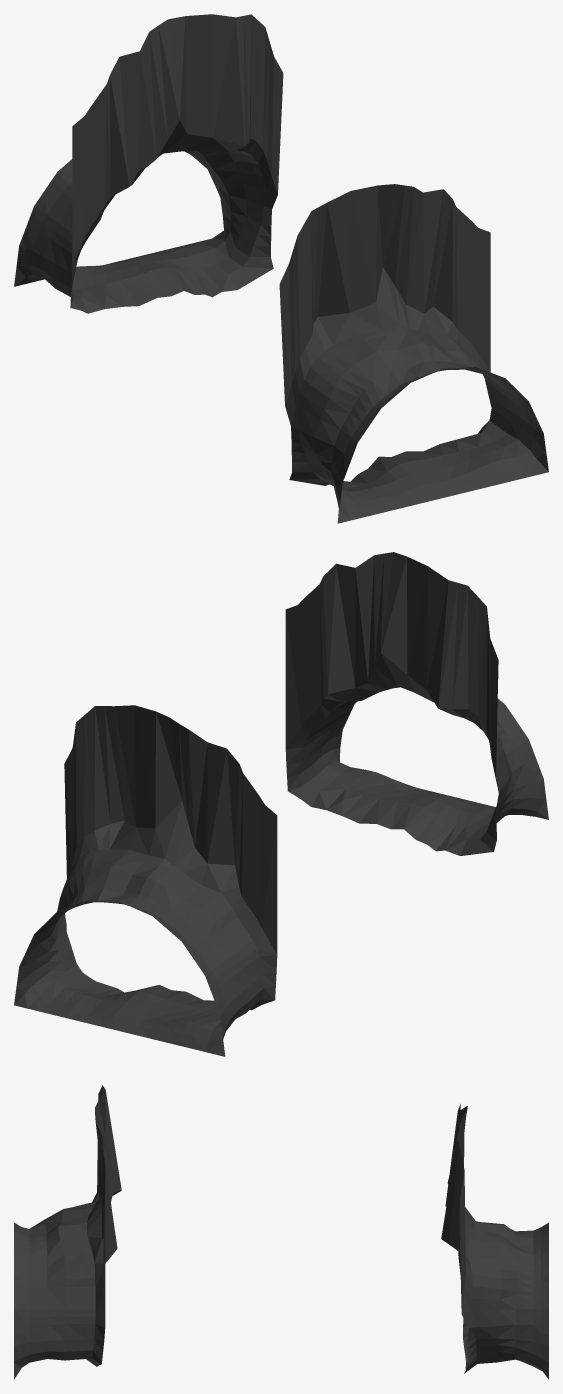
File: Cave_9A.fbx
3 renders of one model, top to bottom at view 1: azimuth 30°, elevation 25°; view 2: azimuth 150°, elevation 25°; view 3: azimuth 270°, elevation 25°, orthographic. The views are drawn at different scales.
Parts seen in each view (by area): view 1: polySurface1225; view 2: polySurface1225; view 3: polySurface1225.
Part boxes in pixels (x1,y1,x2,y2): polySurface1225: (14,14,548,523); polySurface1225: (14,552,548,1056); polySurface1225: (14,1085,548,1379).
Size of the model in its own units: 8.56 by 10.78 by 21.9.
